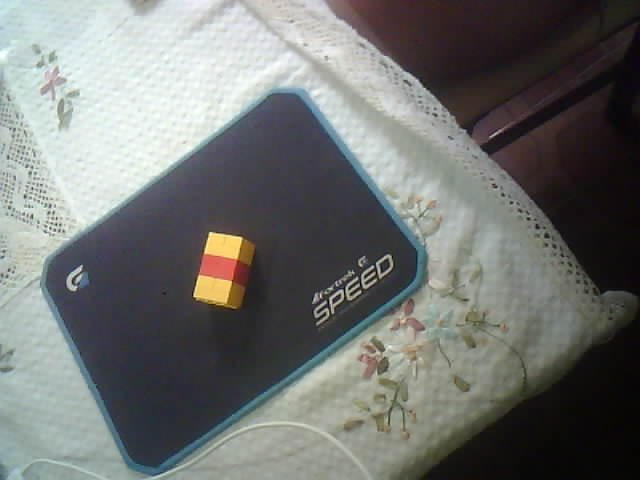lego: (192, 231, 257, 311)
